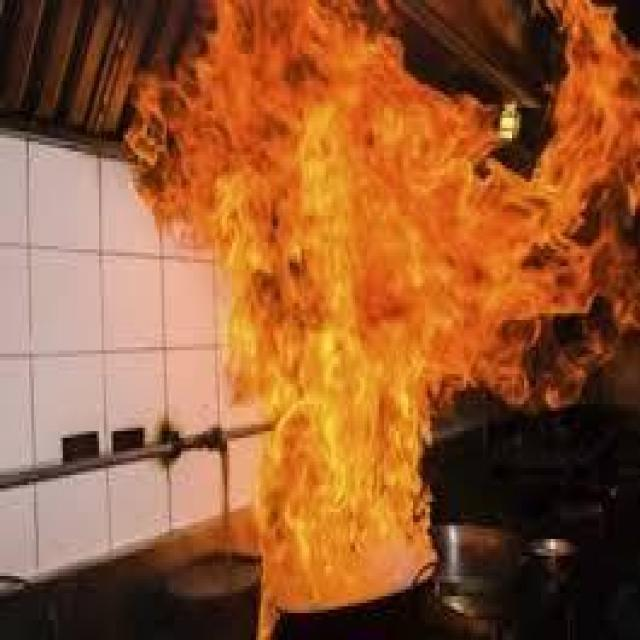Fire: (126, 0, 624, 602)
